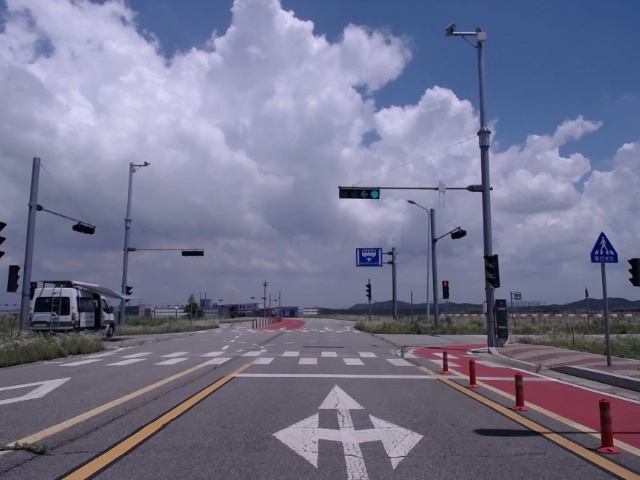all_green_4: (335, 187, 380, 199)
